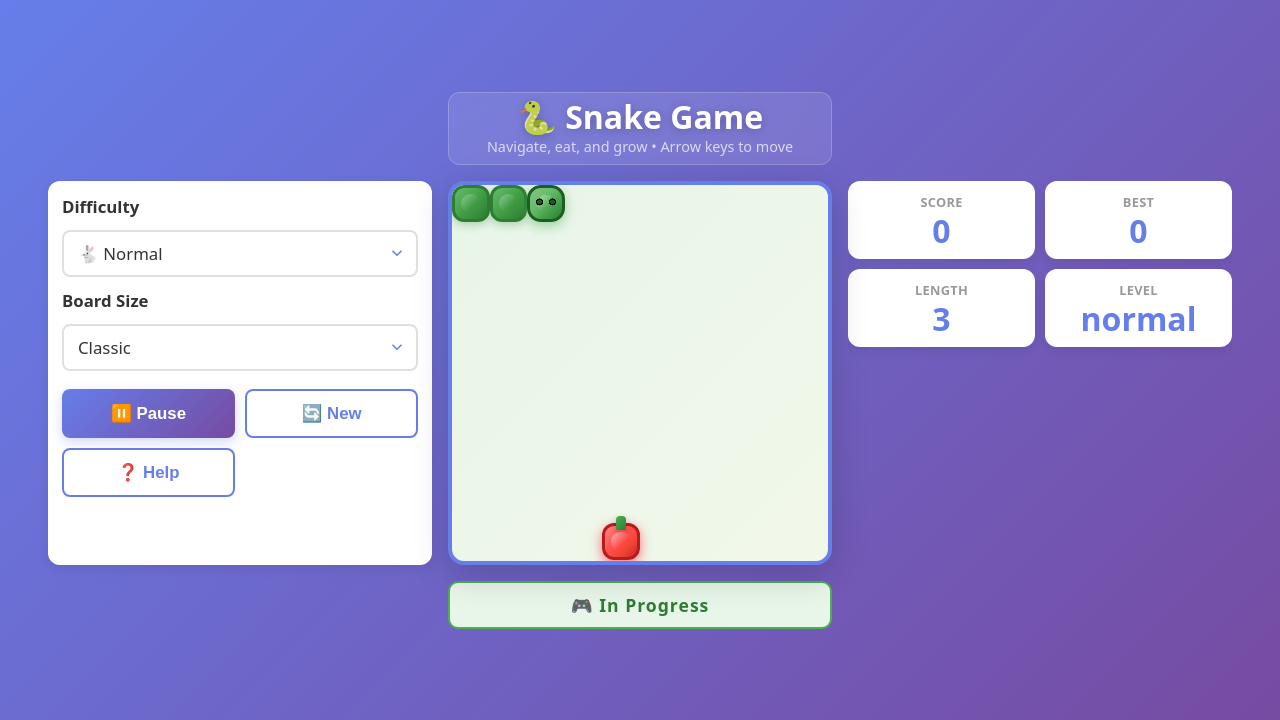
Test: SnakeGame › toggles pause and resume
Step 1. Click the button "⏸️ Pause" → (148, 413), box [62,388,235,438]
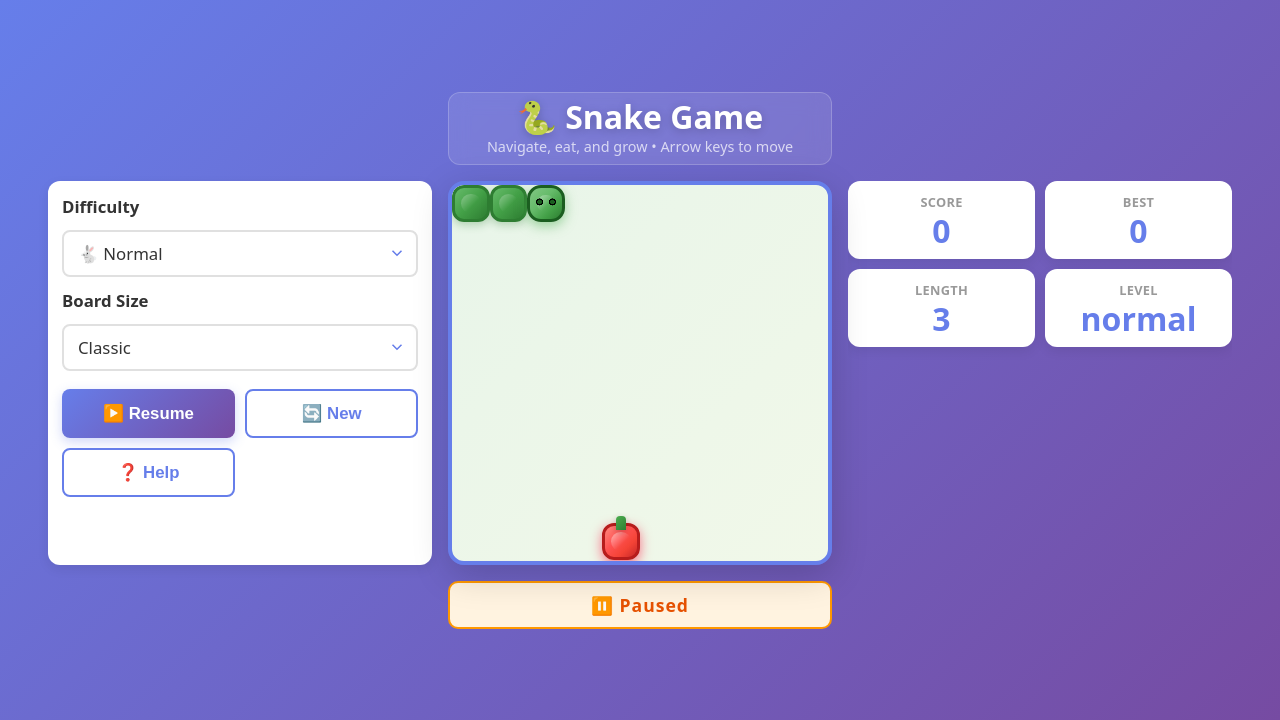
Expected: the text "⏸️ Paused" is shown, [591,592,689,616]
Step 2. Click the button "▶️ Resume" → (148, 413), box [62,388,235,438]
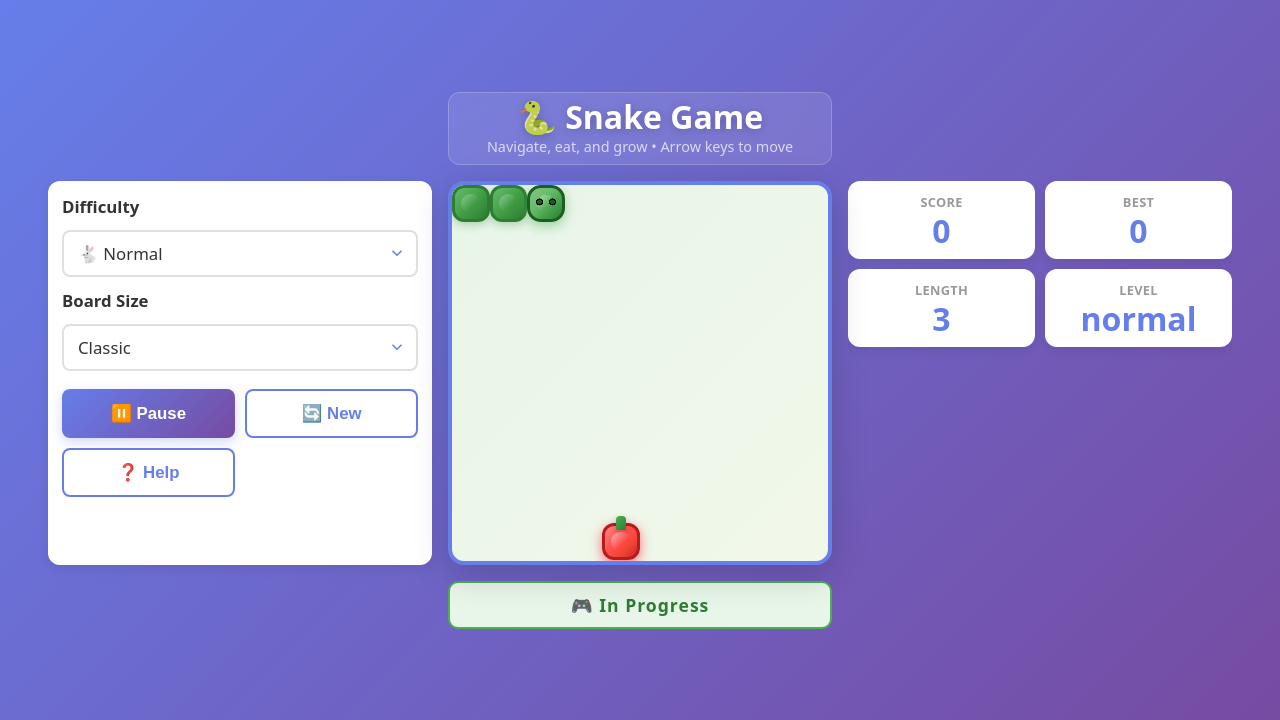
Expected: the text "🎮 In Progress" is shown, [571,592,709,616]
